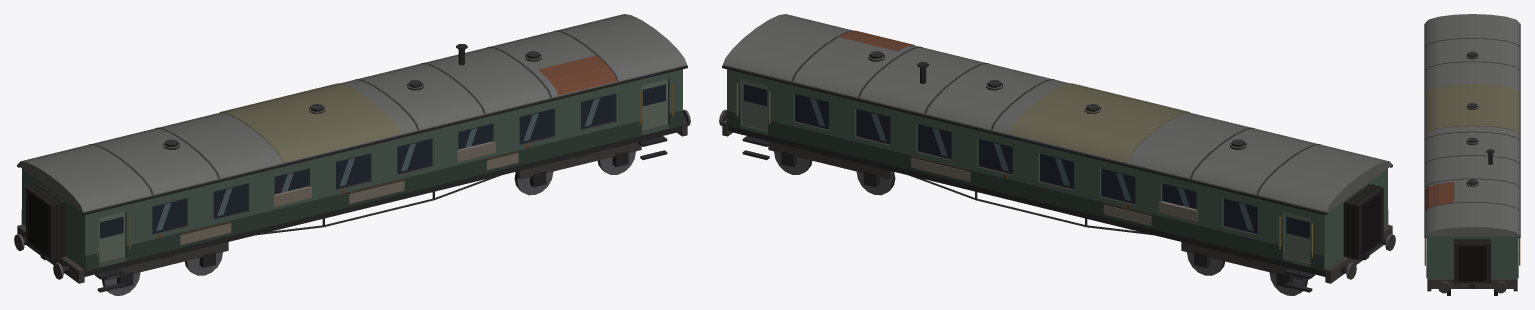
Rendered from coach_worn.glb.
3 views of the same model, side by side, from view 1: azimuth 30°, elevation 25°; view 2: azimuth 150°, elevation 25°; view 3: azimuth 270°, elevation 25° (orthographic). The views are drawn at different scales.
Visible parts, largest first — view 1: coach_worn_LOD0; view 2: coach_worn_LOD0; view 3: coach_worn_LOD0.
Boxes of the visible parts, left/top/right/bottom form: coach_worn_LOD0: left=14, top=14, right=690, bottom=295; coach_worn_LOD0: left=719, top=14, right=1395, bottom=295; coach_worn_LOD0: left=1424, top=14, right=1520, bottom=295.
Size of what is drawn, in the model's own units: 16 by 3.34 by 2.94.
1 material, 1 textured.
